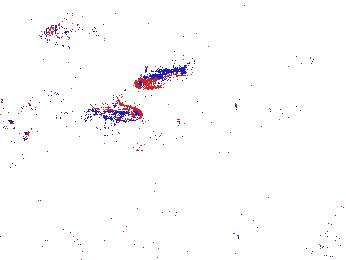X-ray fish: (38, 15, 102, 49), (111, 121, 154, 147)
red belly glassfish: (134, 61, 189, 92), (83, 103, 143, 123), (281, 54, 315, 72)
